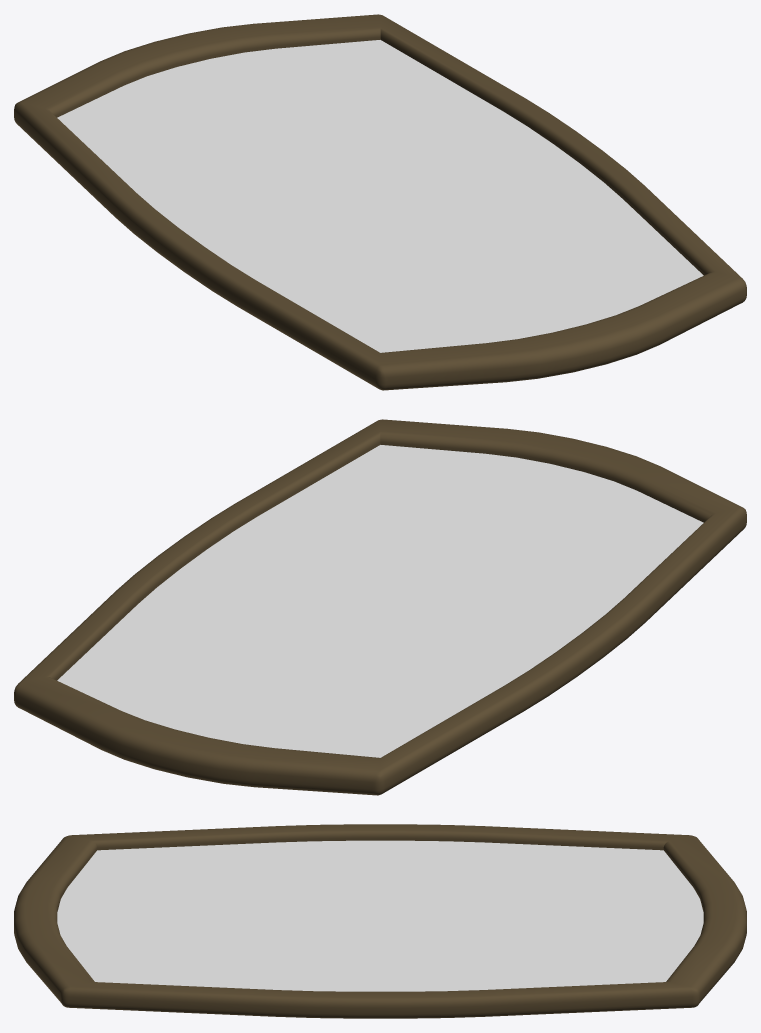
Rendered from MirrorModel_01.fbx.
The picture shows the model from 3 angles, top to bottom: view 1: azimuth 30°, elevation 25°; view 2: azimuth 150°, elevation 25°; view 3: azimuth 270°, elevation 25°; orthographic projection. The views are drawn at different scales.
Visible parts, largest first — view 1: MirrorModel_01; view 2: MirrorModel_01; view 3: MirrorModel_01.
Part boxes in pixels (x1,y1,x2,y2): MirrorModel_01: [14, 14, 746, 390]; MirrorModel_01: [14, 419, 746, 795]; MirrorModel_01: [14, 824, 746, 1018].
Size of the model in its own units: 229 by 14.49 by 397.
